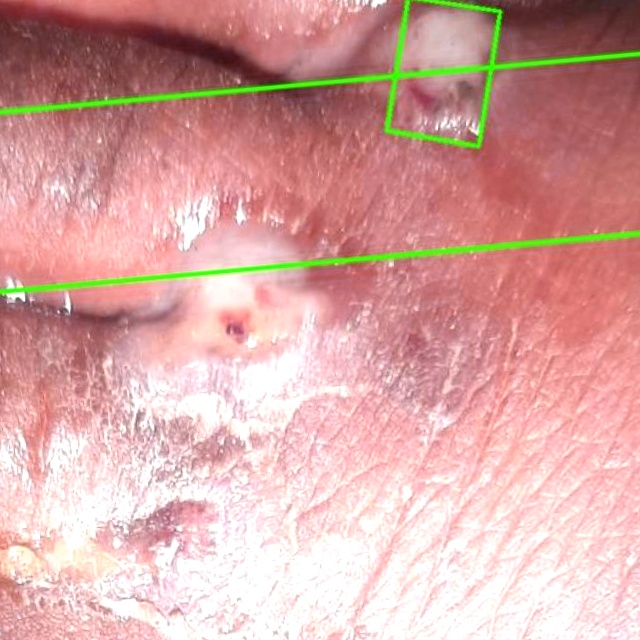Eczema: (0, 233, 639, 639), (387, 0, 501, 146)
